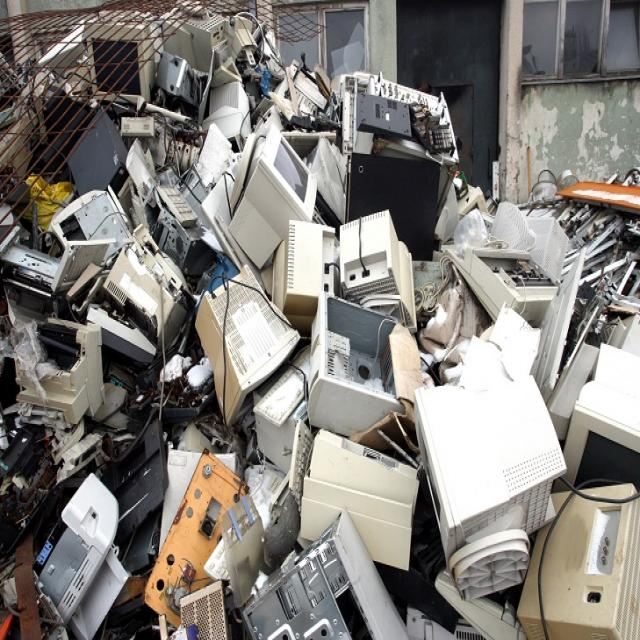hazard: (21, 97, 640, 640)
